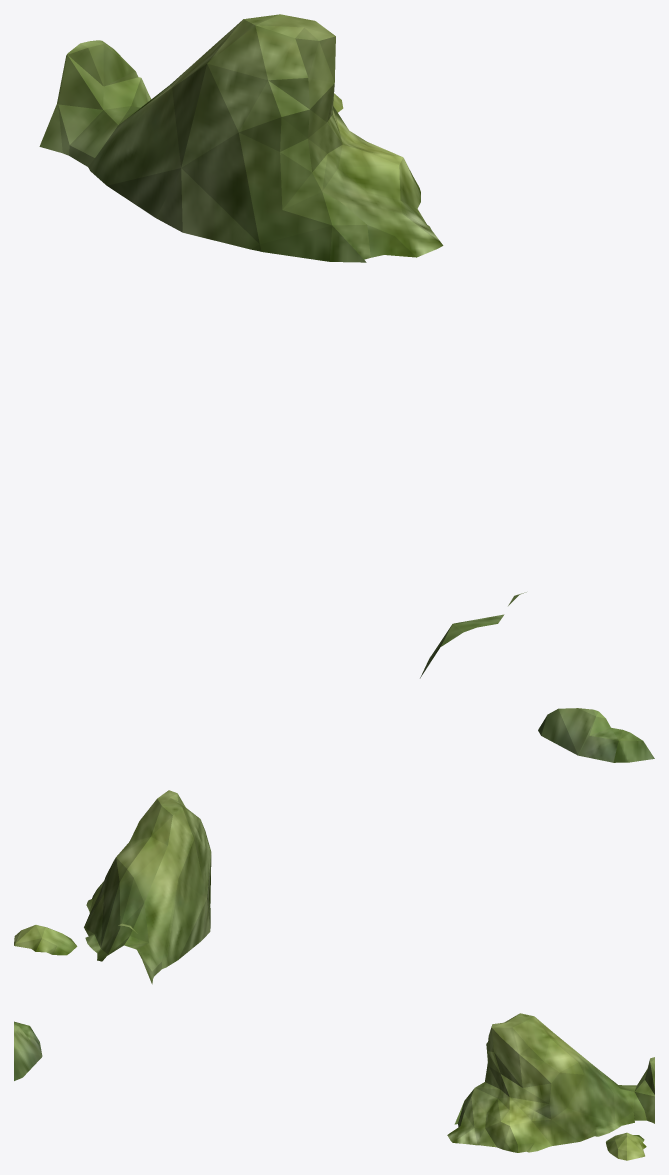
3 renders of one model, top to bottom at view 1: azimuth 30°, elevation 25°; view 2: azimuth 150°, elevation 25°; view 3: azimuth 270°, elevation 25°, orthographic. The views are drawn at different scales.
Size of the model in its own units: 1.42 by 0.5088 by 2.95.
Materials: 1 (1 with a texture image).
